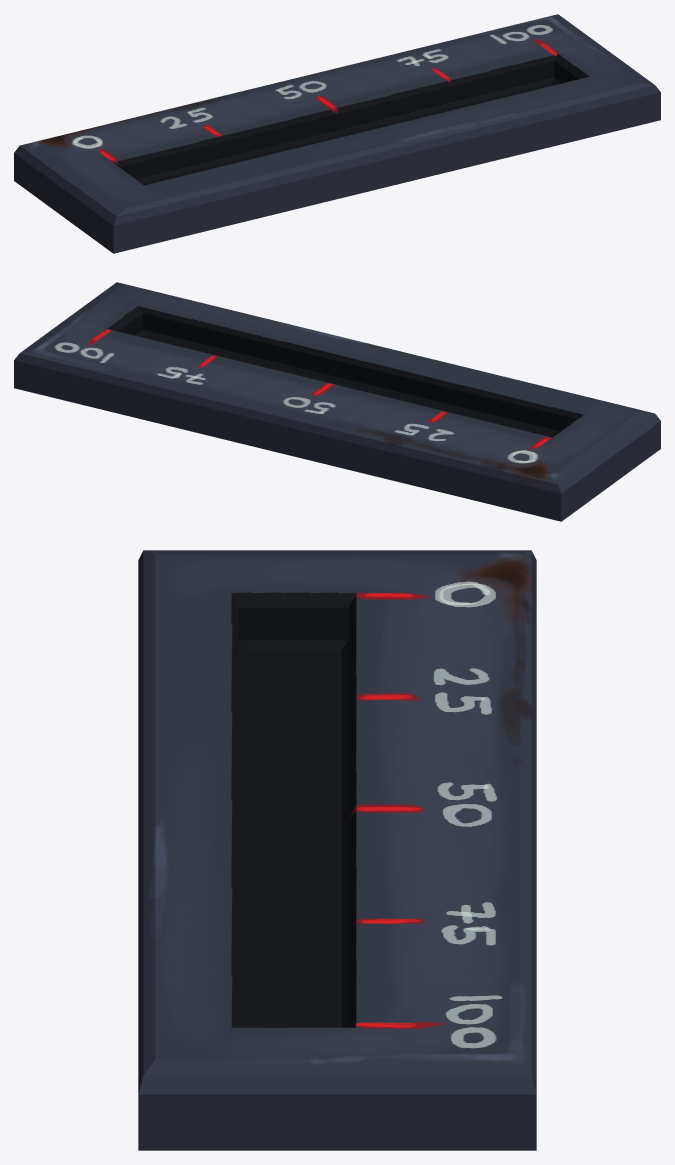
The model's file is slider.obj.
The picture shows the model from 3 angles, top to bottom: view 1: azimuth 30°, elevation 25°; view 2: azimuth 150°, elevation 25°; view 3: azimuth 270°, elevation 25°; orthographic projection. The views are drawn at different scales.
Parts seen in each view (by area): view 1: Cube.058; view 2: Cube.058; view 3: Cube.058.
Part boxes in pixels (x1,y1,x2,y2): Cube.058: [14, 14, 660, 253]; Cube.058: [14, 282, 660, 521]; Cube.058: [138, 550, 536, 1150].
Size of the model in its own units: 3.64 by 0.2421 by 1.15.
